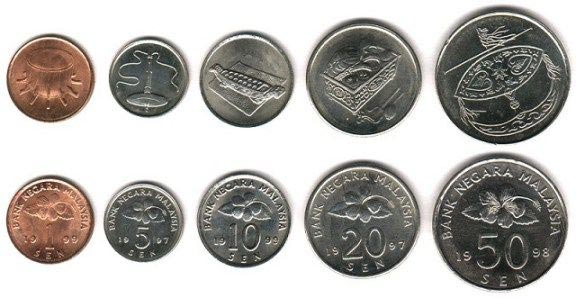10: (198, 31, 296, 129), (196, 170, 293, 269)
1c: (5, 33, 94, 125), (5, 174, 94, 265)
20: (304, 19, 424, 138), (303, 160, 422, 280)
5: (107, 36, 192, 120), (102, 179, 186, 264)
50: (433, 9, 572, 145), (432, 154, 568, 292)
